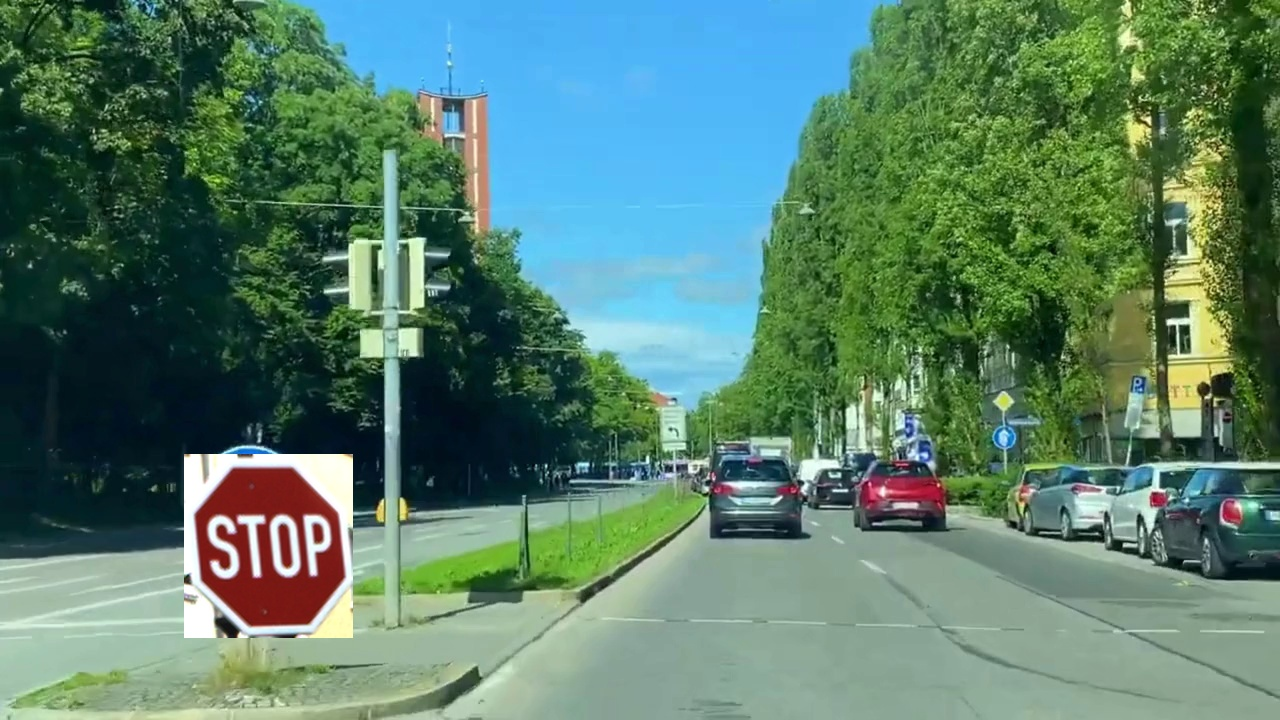Stop: (184, 454, 353, 638)
